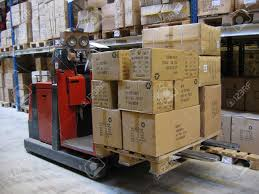box: (155, 103, 200, 158), (120, 110, 156, 161), (151, 47, 198, 80), (90, 107, 122, 151), (118, 79, 154, 114), (90, 49, 126, 80), (122, 47, 152, 80), (87, 79, 118, 109), (204, 83, 221, 136), (174, 79, 198, 110), (153, 80, 174, 115), (198, 55, 221, 86)
pallet: (92, 122, 221, 176)
